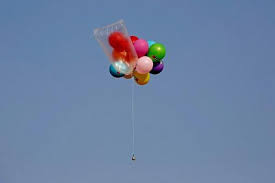Balloon: (93, 20, 135, 69), (136, 56, 152, 74), (148, 44, 165, 60), (108, 32, 124, 49)
